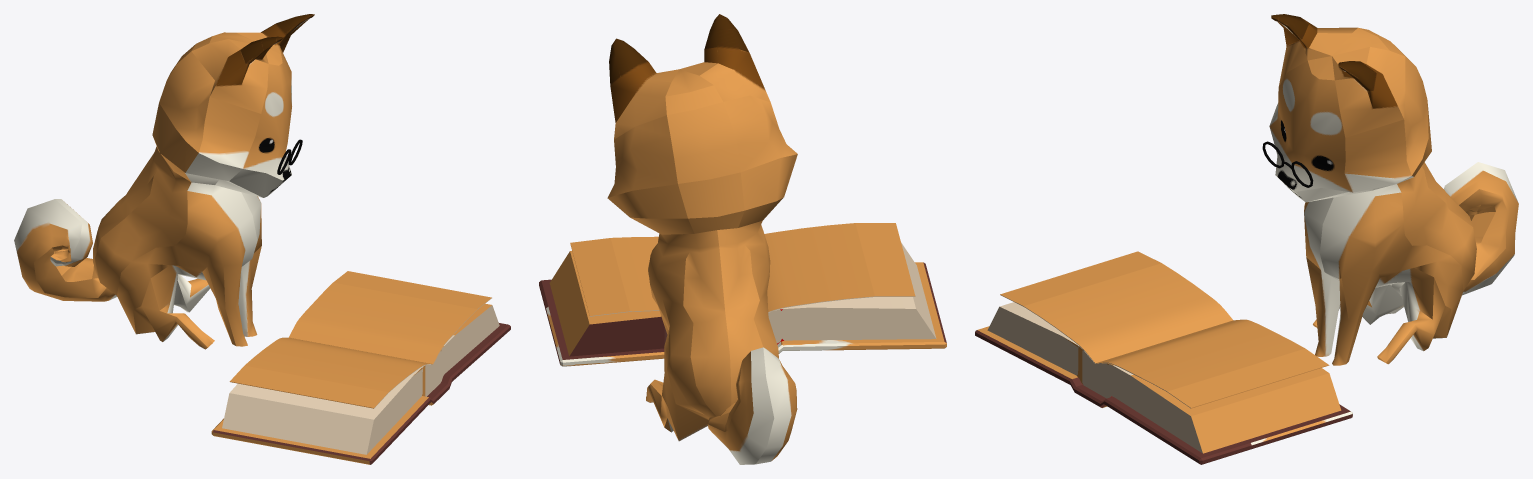
Rendered from book_frame3.obj.
The picture shows the model from 3 angles, left to right: view 1: azimuth 30°, elevation 25°; view 2: azimuth 150°, elevation 25°; view 3: azimuth 270°, elevation 25°; orthographic projection. The views are drawn at different scales.
Visible parts, largest first — view 1: StidyGlasses_Computer_Sitting:Sitting:newRigging:BodzL1, polySurface1; view 2: StidyGlasses_Computer_Sitting:Sitting:newRigging:BodzL1, polySurface1; view 3: StidyGlasses_Computer_Sitting:Sitting:newRigging:BodzL1, polySurface1.
Part boxes in pixels (<box>): StidyGlasses_Computer_Sitting:Sitting:newRigging:BodzL1: <box>14,14,314,349</box>; polySurface1: <box>211,271,510,464</box>; StidyGlasses_Computer_Sitting:Sitting:newRigging:BodzL1: <box>607,14,797,464</box>; polySurface1: <box>539,223,946,366</box>; StidyGlasses_Computer_Sitting:Sitting:newRigging:BodzL1: <box>1269,14,1518,365</box>; polySurface1: <box>975,251,1352,464</box>.
Bounding box in the file's own units: 9.18 × 7.78 × 11.01.
Materials: 4 (4 with a texture image).
